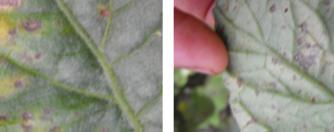Tomato Septoria leaf spot: (0, 0, 149, 132), (197, 0, 334, 132)
